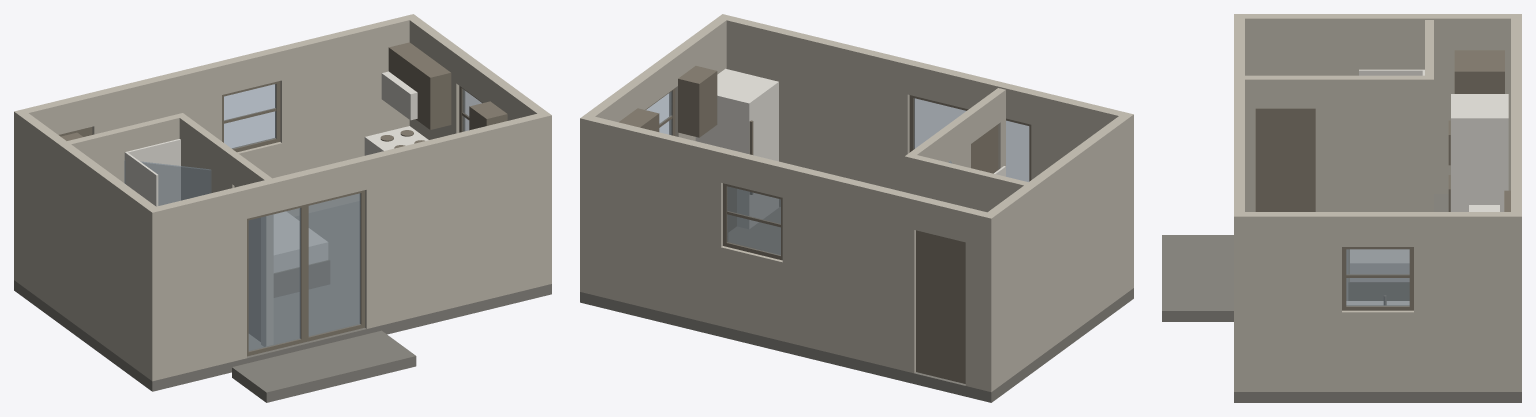
Rendered from adu-240.glb.
The picture shows the model from 3 angles, left to right: view 1: azimuth 30°, elevation 25°; view 2: azimuth 150°, elevation 25°; view 3: azimuth 270°, elevation 25°; orthographic projection. The views are drawn at different scales.
Visible parts, largest first — view 1: wall_front_2, wall_west_0, wall_front_0, wall_rear_5, slab, stoop, door_front_L_glass, door_front_R_glass, wall_rear_2, wall_front_head1, part_bath_0, upper_cabinets (+24 smaller); view 2: wall_rear_5, wall_west_0, wall_rear_2, wall_front_2, slab, door_mech_louvered, refrigerator_30, wall_rear_0, wall_front_0, wall_rear_sill3, part_closet_0, wall_front_head1 (+15 smaller); view 3: wall_east_0, wall_east_3, wall_west_0, part_bath_0, washer_dryer_stack, door_bath, stoop, wall_east_sill1, slab, window_east_glass, wall_front_2, wall_rear_5 (+13 smaller).
Boxes of the visible parts, bbox=[...] form: wall_front_2: bbox=[362, 111, 551, 328]; wall_west_0: bbox=[19, 113, 155, 376]; wall_front_0: bbox=[147, 186, 246, 381]; wall_rear_5: bbox=[277, 14, 418, 216]; slab: bbox=[14, 201, 551, 391]; stoop: bbox=[232, 330, 416, 402]; door_front_L_glass: bbox=[248, 208, 300, 351]; door_front_R_glass: bbox=[308, 193, 360, 336]; wall_rear_2: bbox=[89, 62, 221, 140]; wall_front_head1: bbox=[242, 156, 366, 218]; part_bath_0: bbox=[176, 113, 239, 200]; upper_cabinets: bbox=[388, 42, 451, 129]; wall_rear_5: bbox=[580, 114, 725, 325]; wall_west_0: bbox=[988, 116, 1128, 387]; wall_rear_2: bbox=[782, 164, 919, 373]; wall_front_2: bbox=[717, 14, 912, 206]; slab: bbox=[580, 207, 1133, 402]; door_mech_louvered: bbox=[916, 230, 965, 383]; refrigerator_30: bbox=[695, 68, 778, 228]; wall_rear_0: bbox=[965, 208, 996, 392]; wall_front_0: bbox=[1031, 90, 1133, 291]; wall_rear_sill3: bbox=[721, 246, 782, 341]; part_closet_0: bbox=[908, 154, 1028, 212]; wall_front_head1: bbox=[907, 60, 1035, 124]; wall_east_0: bbox=[1414, 212, 1510, 391]; wall_east_3: bbox=[1245, 212, 1341, 391]; wall_west_0: bbox=[1245, 14, 1510, 193]; part_bath_0: bbox=[1315, 75, 1433, 253]; washer_dryer_stack: bbox=[1451, 94, 1508, 211]; door_bath: bbox=[1255, 108, 1315, 211]; stoop: bbox=[1162, 235, 1233, 321]; wall_east_sill1: bbox=[1342, 310, 1413, 391]; slab: bbox=[1234, 194, 1521, 402]; window_east_glass: bbox=[1346, 249, 1409, 306]; wall_front_2: bbox=[1234, 122, 1244, 391]; wall_rear_5: bbox=[1511, 147, 1521, 391].
Size of the model in its own units: 6.1 by 2.69 by 4.57.
